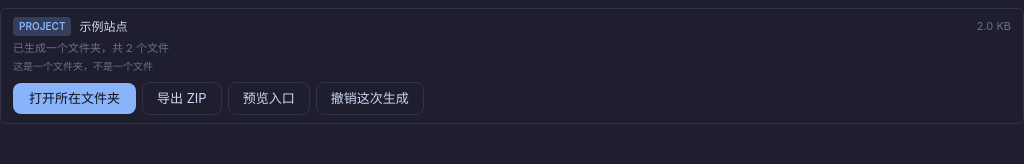
Test: PROJECT 产物卡片 › 撤销被拒（SNAPSHOT_DIVERGED）→ 显示拒绝原因与路径
The width and height of the screenshot is (1024, 164).
Click the button "撤销这次生成". click: (370, 98)
box: top-left (316, 82), bottom-right (424, 115)
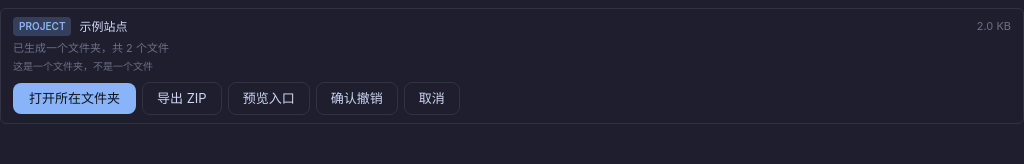
Click the button "确认撤销". click: (357, 98)
box: top-left (316, 82), bottom-right (398, 115)
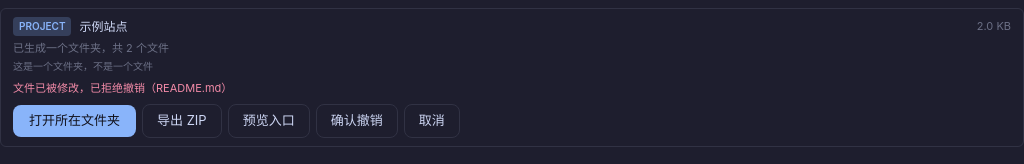
Expected: the text "文件已被修改，已拒绝撤销（README.md）" is shown, top-left (13, 80), bottom-right (232, 94)
